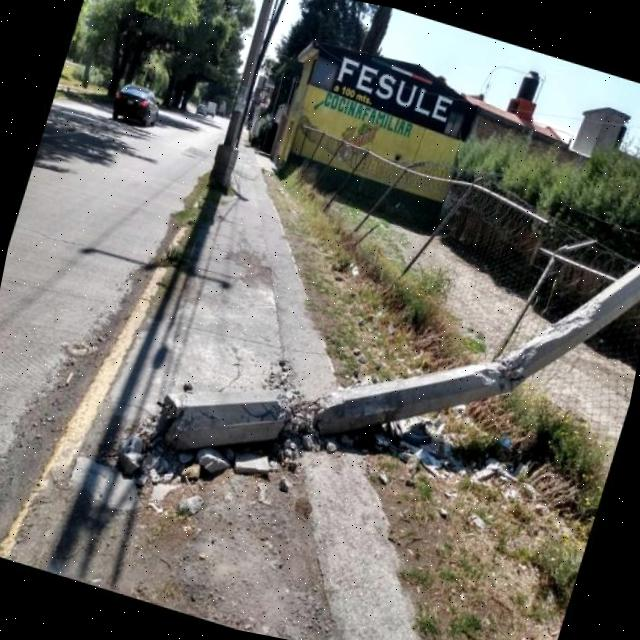Broken Pole: (156, 260, 640, 444)
